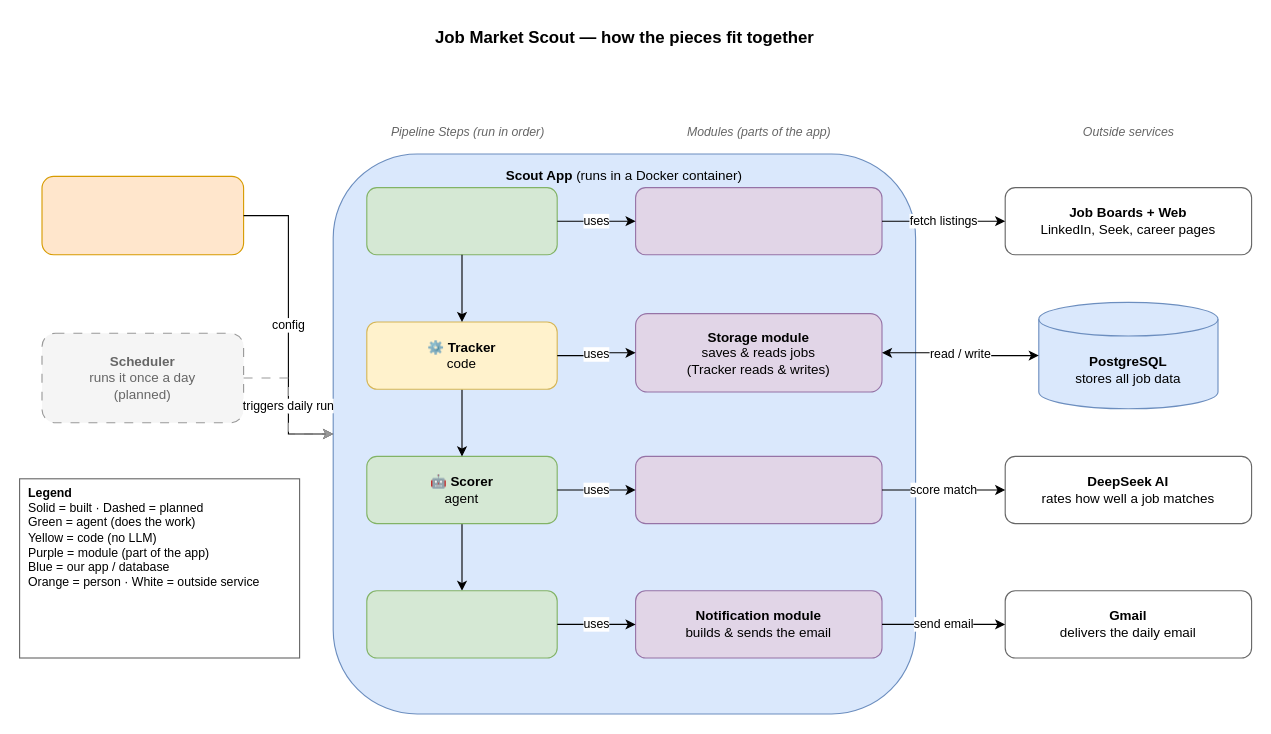
Image size: 1271x734. Some labels were removed from this diagram. Here are the shapes that lost their labels. From the top down, the centre of each, then its label:
At [142,215]: "Job Seeker provides resume, roles, preferences".
At [461,220]: "🤖 Scraper agent".
At [758,220]: "Crawling module gets job listings".
At [758,489]: "Integration module calls the LLM (DeepSeek)".
At [461,624]: "🤖 Briefing agent".
